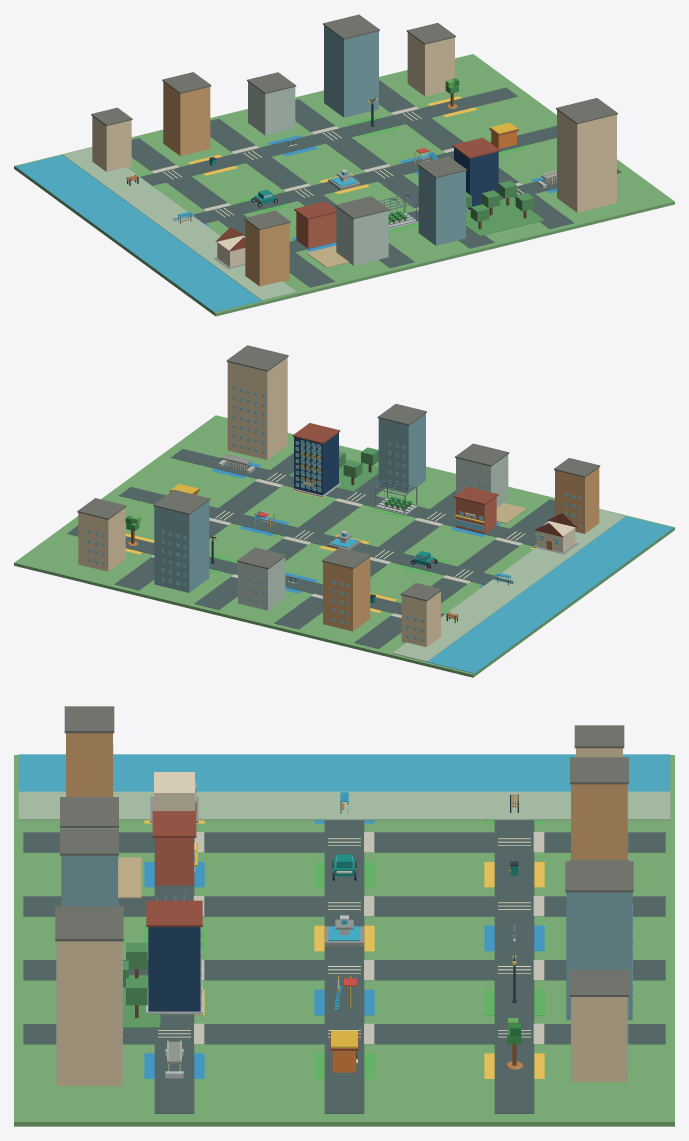
The model's file is greenbay.glb.
3 renders of one model, top to bottom at view 1: azimuth 30°, elevation 25°; view 2: azimuth 150°, elevation 25°; view 3: azimuth 270°, elevation 25°, orthographic. The views are drawn at different scales.
Visible parts, largest first — view 1: city-island, background-building (×9), avenue (×4), bay-water, cross-street (×3), roof-cap (×9), waterfront-walk, building (×2), park-lawn, roof (×2), house, harbor-plaza; view 2: city-island, background-building (×9), avenue (×4), bay-water, cross-street (×3), roof-cap (×8), waterfront-walk, building (×2), house, park-lawn, roof; view 3: city-island, background-building (×6), avenue (×4), cross-street (×3), bay-water, waterfront-walk, roof-cap (×8), building (×2), roof (×2), house, harbor-plaza, park-lawn.
Boxes of the visible parts, x1,y1,x2,y2 form: city-island: [14, 54, 674, 316]; background-building (×9): [92, 25, 616, 286]; avenue (×4): [131, 80, 574, 287]; bay-water: [15, 155, 263, 312]; cross-street (×3): [140, 87, 621, 253]; roof-cap (×9): [91, 14, 617, 230]; waterfront-walk: [63, 147, 296, 300]; building (×2): [296, 148, 498, 248]; park-lawn: [466, 197, 544, 236]; roof (×2): [294, 137, 500, 219]; house: [217, 235, 245, 267]; harbor-plaza: [307, 245, 349, 267]; city-island: [14, 415, 674, 677]; background-building (×9): [78, 357, 599, 647]; avenue (×4): [114, 453, 554, 648]; bay-water: [426, 516, 673, 673]; cross-street (×3): [67, 449, 536, 616]; roof-cap (×8): [77, 345, 600, 569]; waterfront-walk: [392, 509, 625, 661]; building (×2): [294, 433, 496, 533]; house: [536, 521, 575, 552]; park-lawn: [288, 459, 378, 491]; roof: [292, 423, 340, 443]; city-island: [14, 755, 674, 1126]; background-building (×6): [56, 733, 632, 1086]; avenue (×4): [23, 832, 665, 1044]; cross-street (×3): [154, 820, 534, 1113]; bay-water: [18, 754, 670, 791]; waterfront-walk: [18, 791, 670, 820]; roof-cap (×8): [55, 706, 633, 996]; building (×2): [148, 838, 200, 1011]; roof (×2): [146, 811, 202, 926]; house: [154, 772, 194, 810]; harbor-plaza: [118, 857, 141, 898]; park-lawn: [123, 975, 160, 1027].
Size of the model in its own units: 92 by 17.79 by 70.
